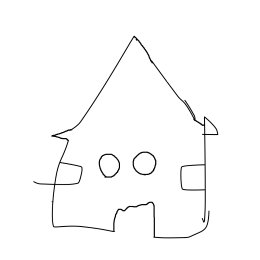door: (108, 194, 164, 244)
open_window: (176, 158, 218, 197), (129, 145, 160, 180), (93, 149, 125, 181), (56, 158, 86, 190)
single_line_roof: (42, 32, 236, 142)
wall: (48, 134, 213, 244)
